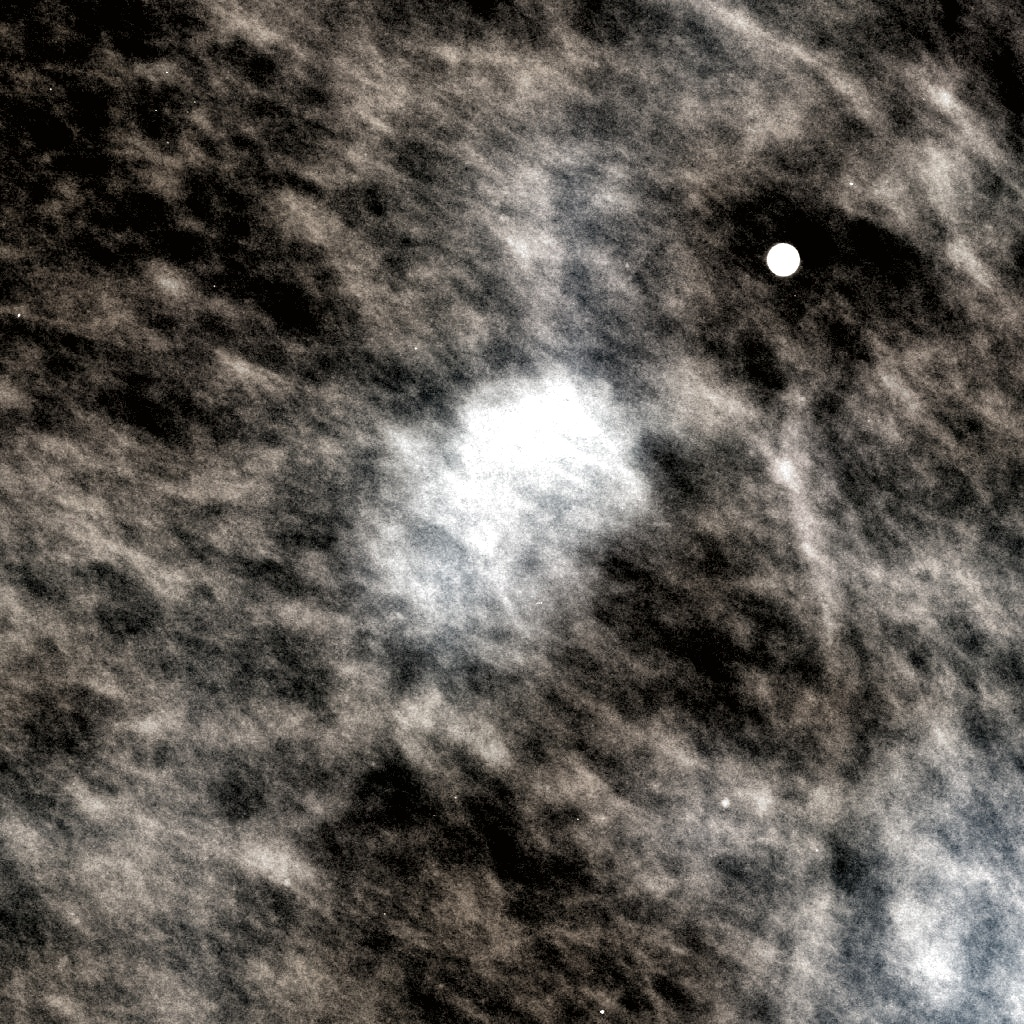tumor: (351, 347, 673, 677)
